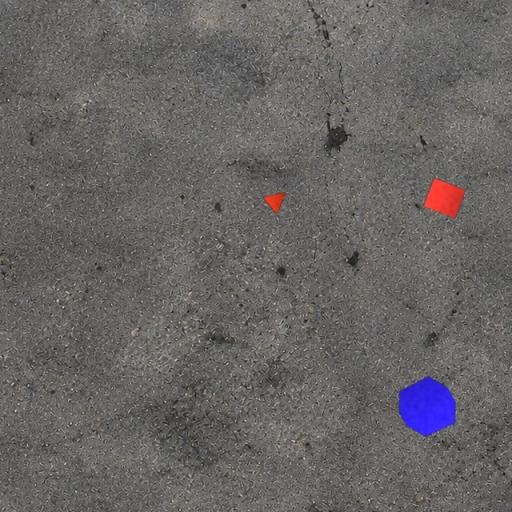RED_SQUARE: (422, 178, 466, 220)
